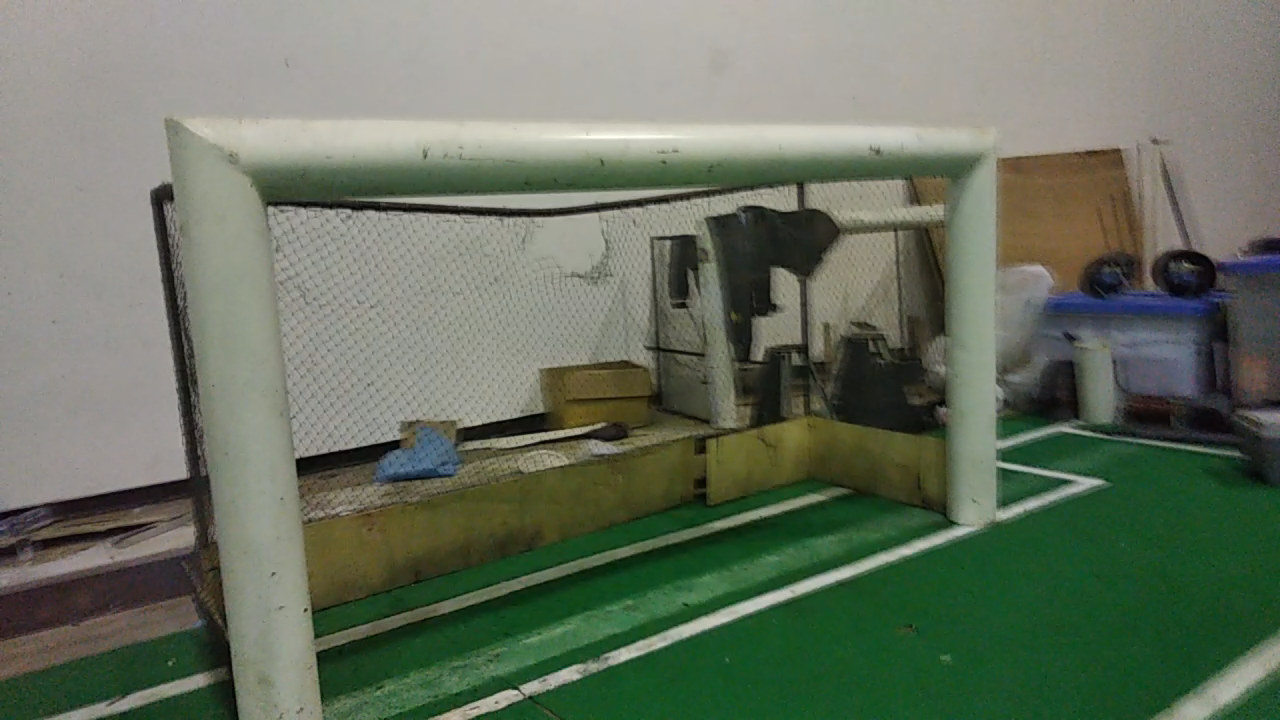gawang: (150, 96, 1005, 719)
